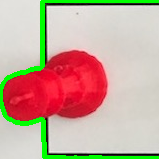Red King: (2, 48, 109, 124)
